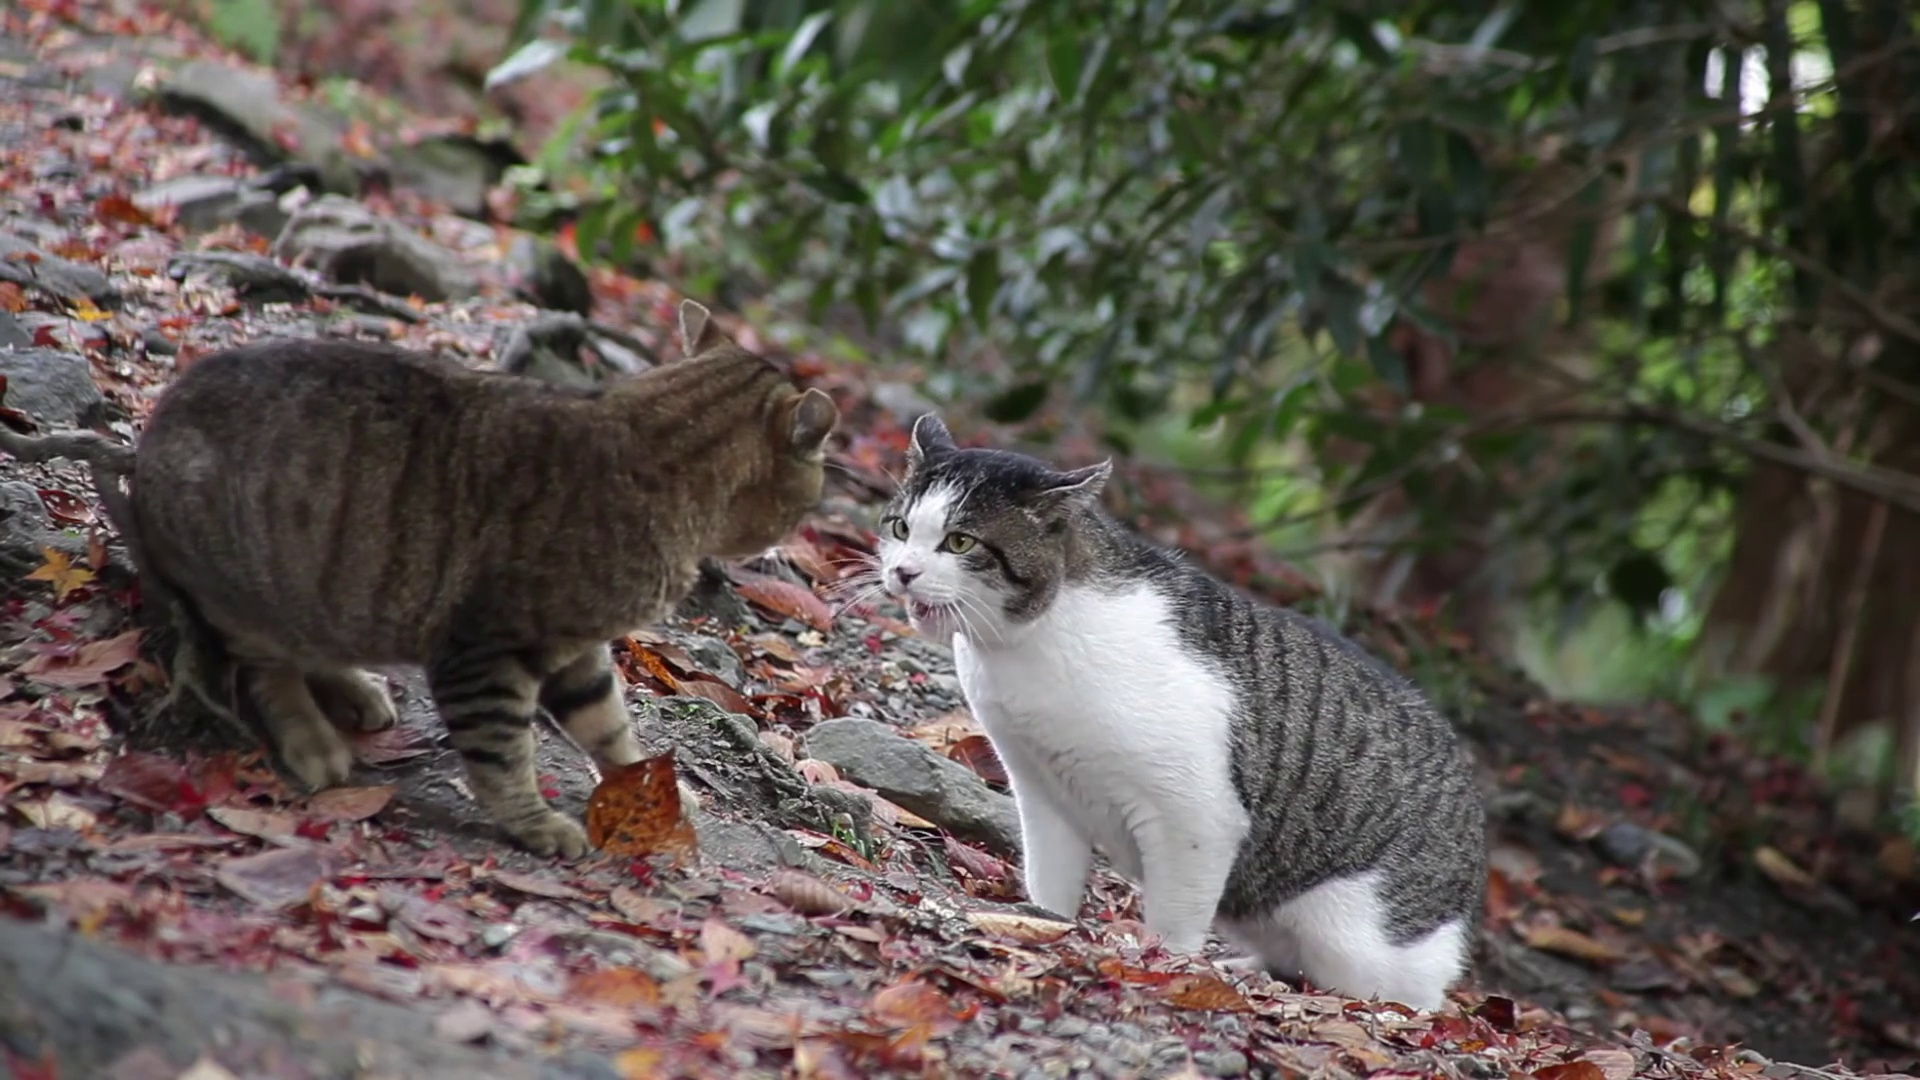black-white: (878, 411, 1485, 1007)
pure black: (132, 297, 837, 864)
